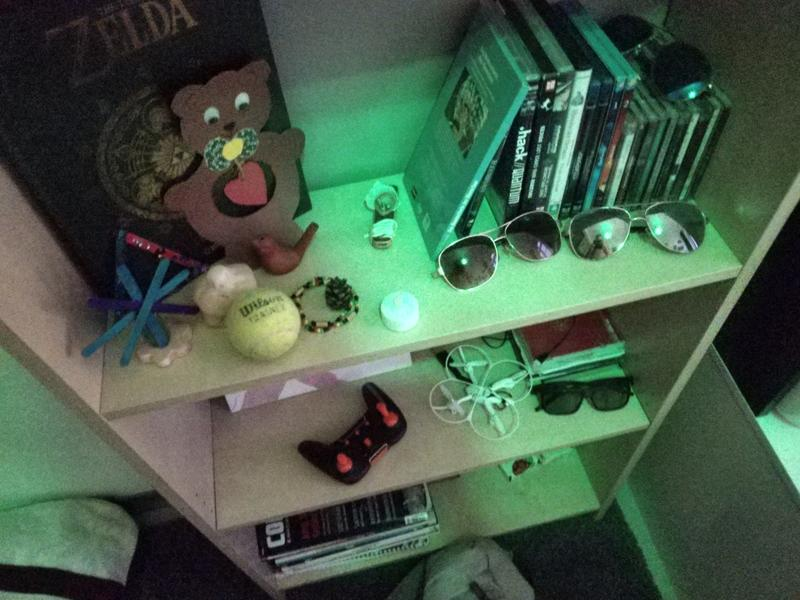Tennisball: (223, 286, 302, 362)
